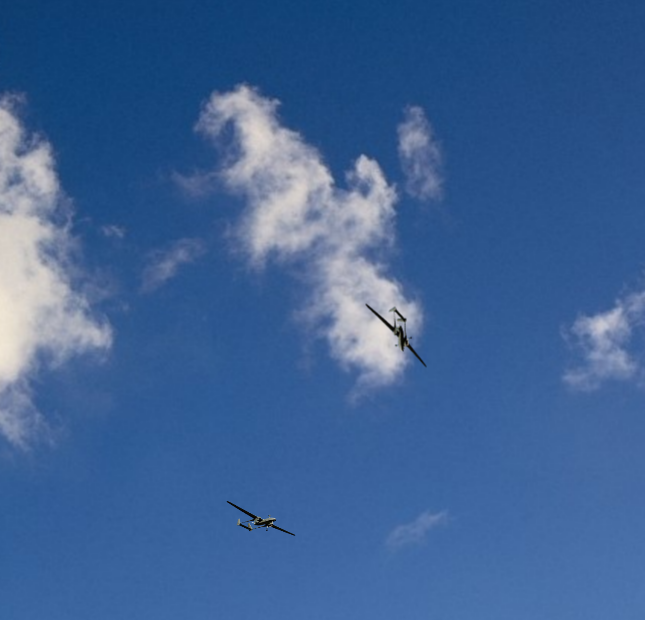military drone: (365, 301, 426, 367), (226, 500, 295, 537)
